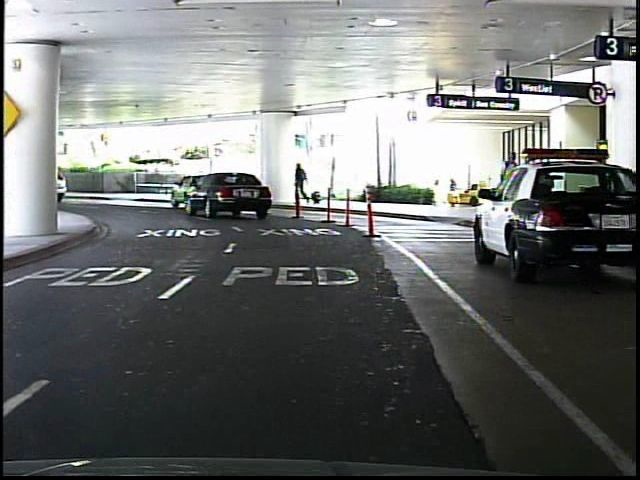person: (498, 146, 525, 226), (290, 161, 317, 209)
